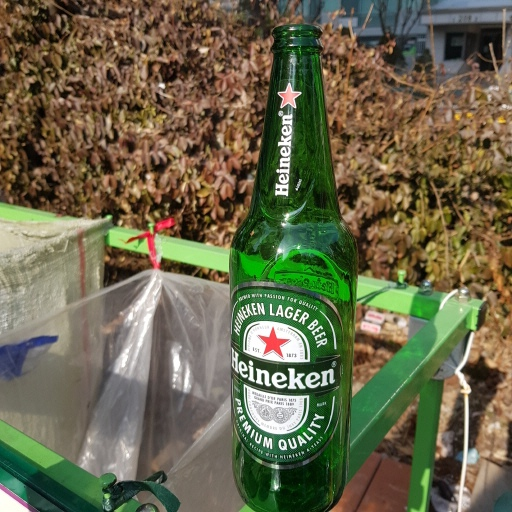Glass_1: (227, 22, 359, 509)
